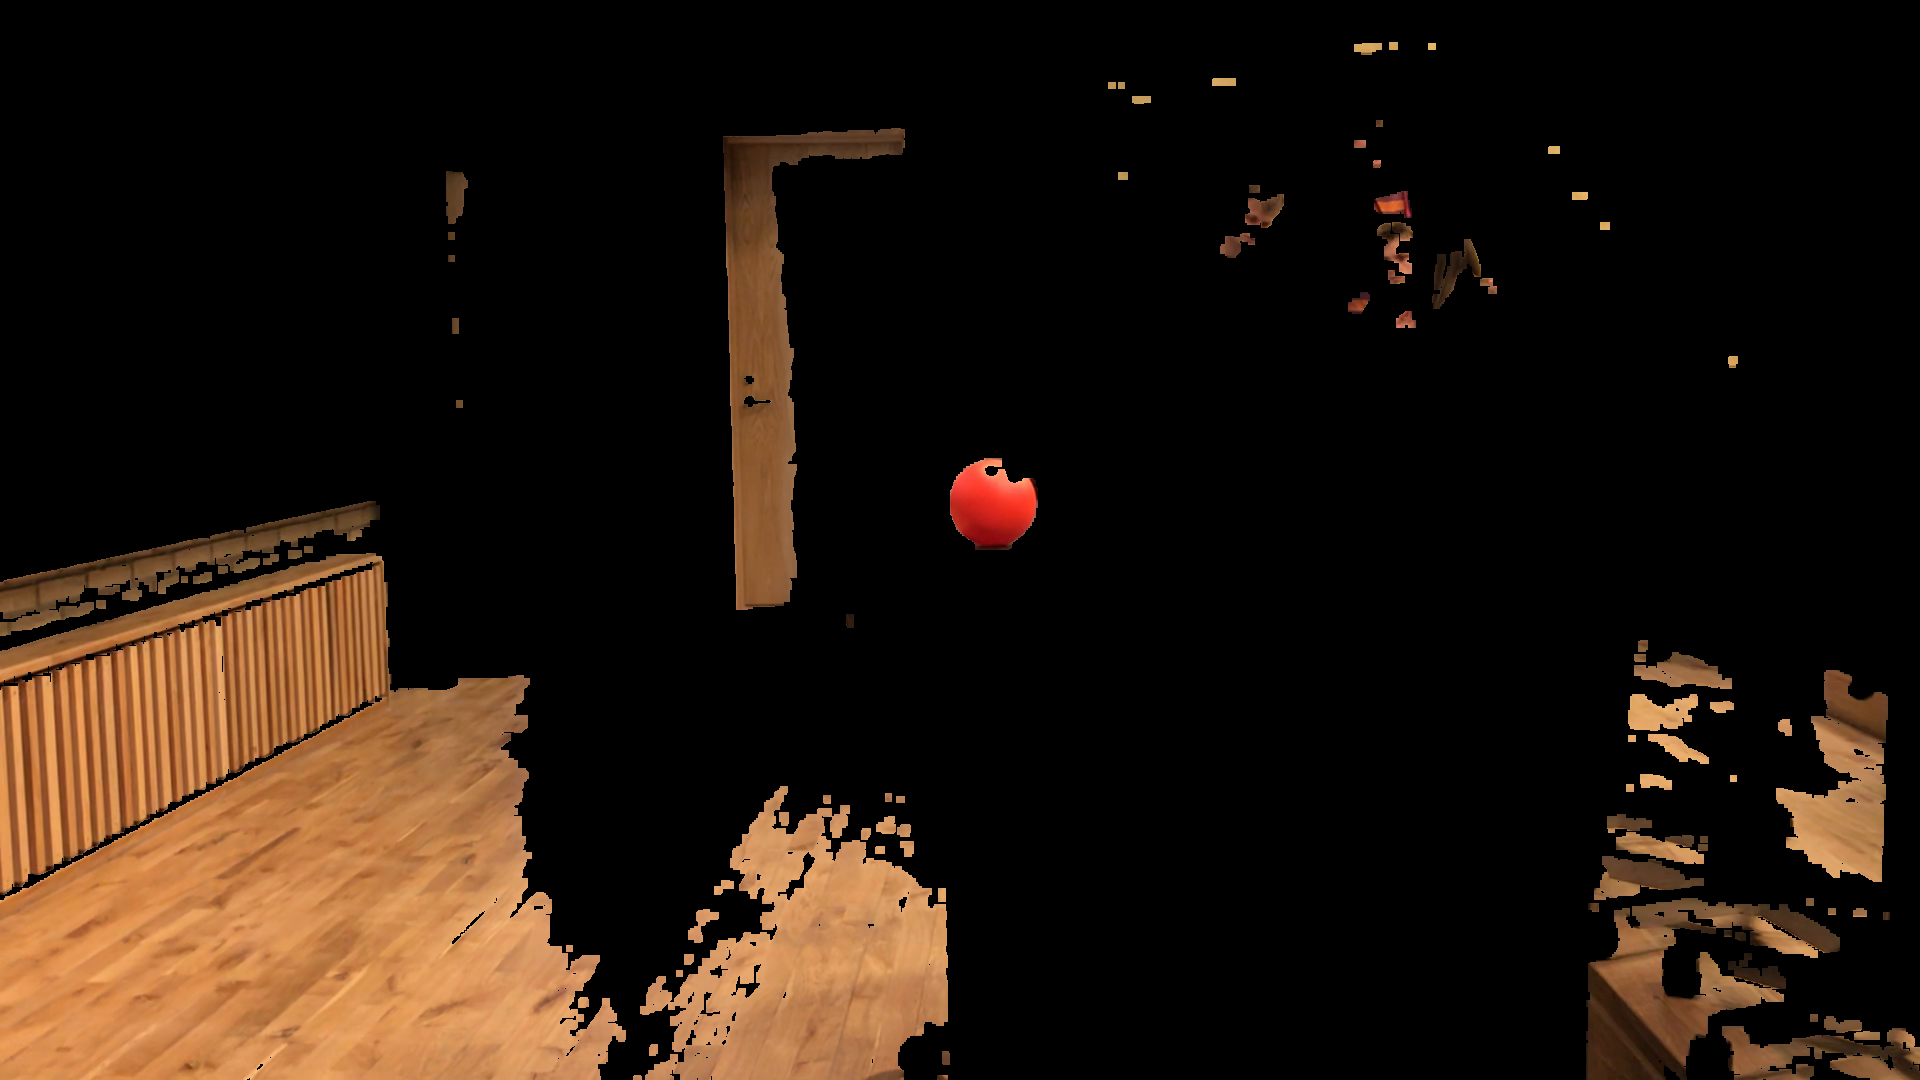Ball: (942, 454, 1054, 553)
